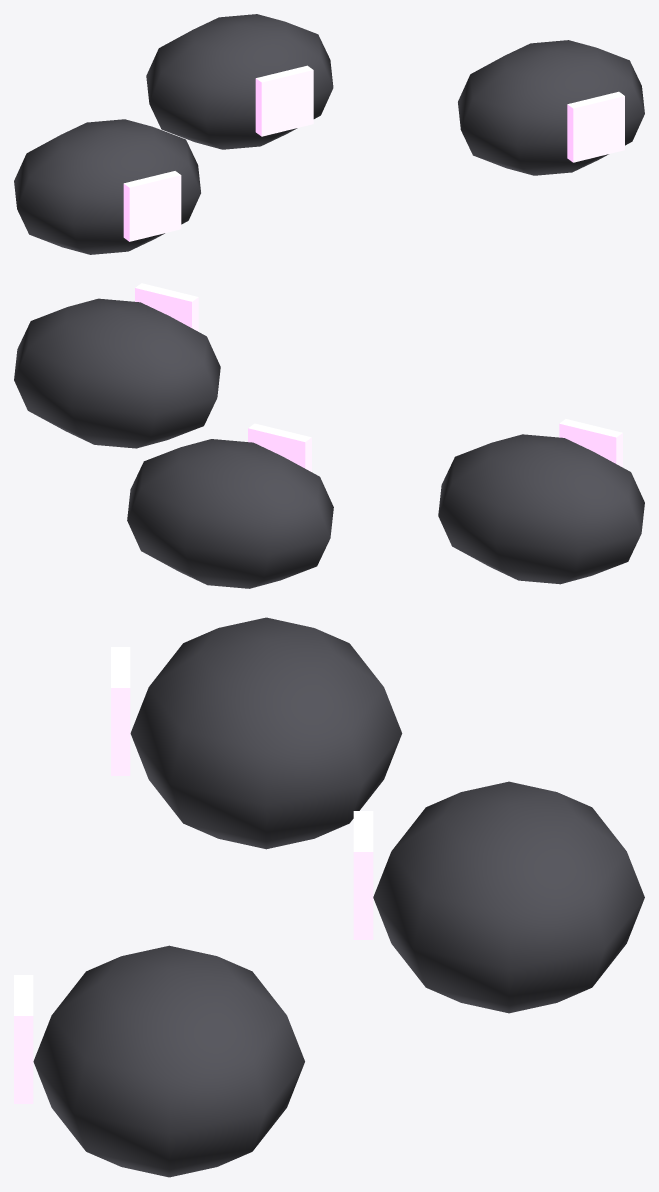
The model's file is rune_item_stone_set.glb.
The picture shows the model from 3 angles, top to bottom: view 1: azimuth 30°, elevation 25°; view 2: azimuth 150°, elevation 25°; view 3: azimuth 270°, elevation 25°; orthographic projection. The views are drawn at different scales.
Parts seen in each view (by area): view 1: GD_rune_item_stone_set__m0, GD_rune_item_stone_set__m1; view 2: GD_rune_item_stone_set__m0, GD_rune_item_stone_set__m1; view 3: GD_rune_item_stone_set__m0, GD_rune_item_stone_set__m1.
Boxes of the visible parts, x1,y1,x2,y2 form: GD_rune_item_stone_set__m0: (14,14,644,254); GD_rune_item_stone_set__m1: (123,65,624,241); GD_rune_item_stone_set__m0: (14,298,644,588); GD_rune_item_stone_set__m1: (135,283,622,471); GD_rune_item_stone_set__m0: (33,617,644,1177); GD_rune_item_stone_set__m1: (14,647,373,1103).
Size of the model in its own units: 0.23 by 0.042 by 0.13.
